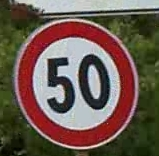limite 50: (9, 18, 143, 149)
